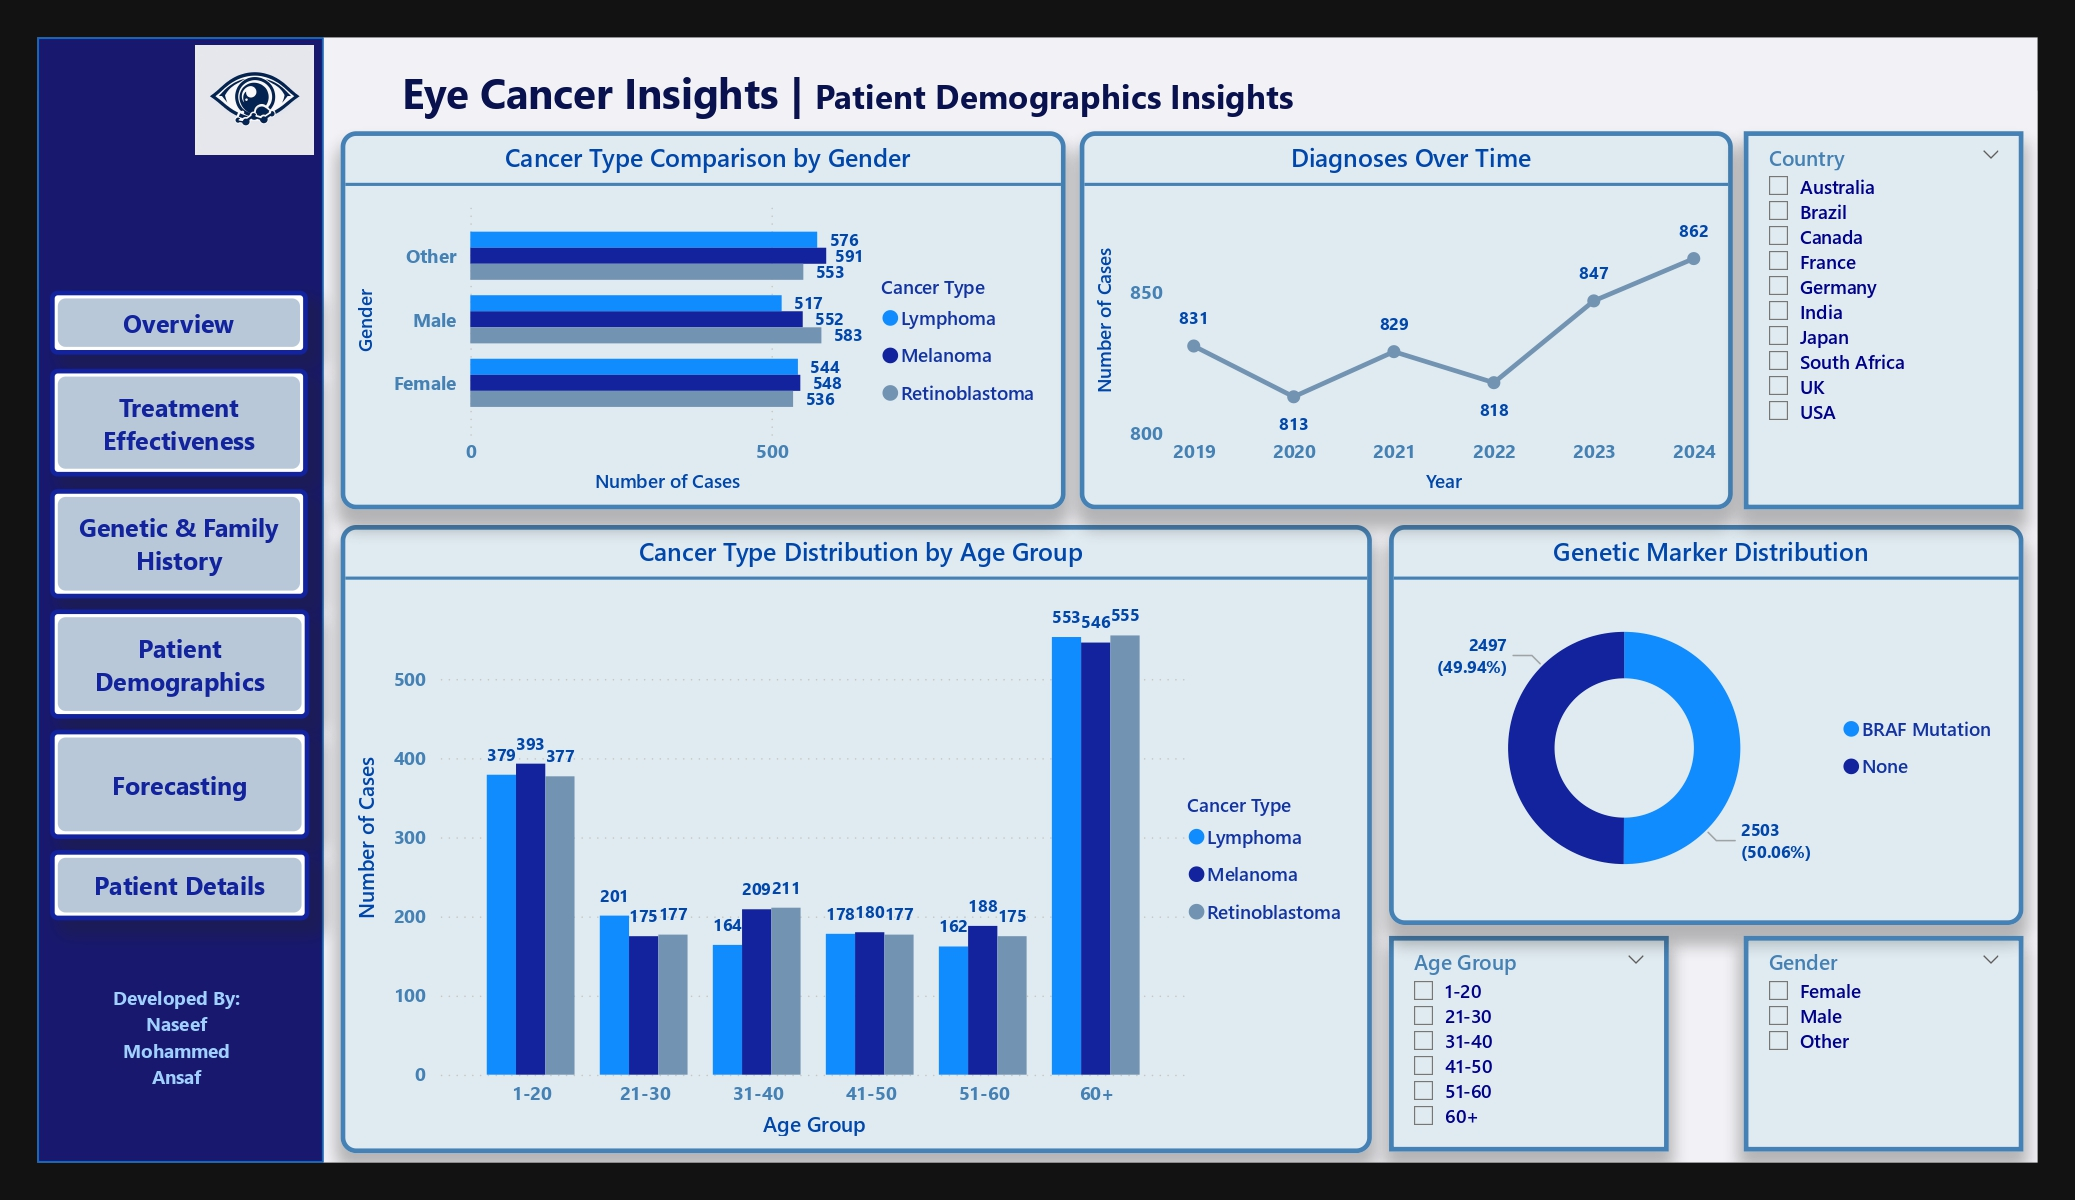

The dashboard page shown, as its layout file describes it:
{"tool":"powerbi","page":{"name":"Patient Demographics","canvas":[1280,720],"ordinal":3},"visuals":[{"type":"shape","box":[0,0,182.8,720.2],"z":0},{"type":"textbox","box":[182.8,12.3,671.2,47.9],"z":1000},{"type":"image","box":[96.5,0,85.9,80],"z":2000},{"type":"slicer","fields":{"Values":["Eye cancer patients dataset_cleaned.Age Group"]},"box":[865,575.5,179.1,137.4],"z":3000},{"type":"donutChart","title":"Genetic Marker Distribution","fields":{"Y":["CountNonNull(Eye cancer patients dataset_cleaned.Genetic_Markers)"],"Category":["Eye cancer patients dataset_cleaned.Genetic_Markers"]},"box":[865,311.7,406.1,256.4],"z":4000},{"type":"slicer","fields":{"Values":["Eye cancer patients dataset_cleaned.Gender"]},"box":[1092,575.5,179.1,137.4],"z":5000},{"type":"clusteredColumnChart","title":"Cancer Type Distribution by Age Group","fields":{"Category":["Eye cancer patients dataset_cleaned.Age Group"],"Y":["CountNonNull(Eye cancer patients dataset_cleaned.Patient_ID)"],"Series":["Eye cancer patients dataset_cleaned.Cancer_Type"]},"box":[193.9,311.7,660.1,402.5],"z":6000},{"type":"clusteredBarChart","title":"Cancer Type Comparison by Gender","fields":{"Category":["Eye cancer patients dataset_cleaned.Gender"],"Y":["CountNonNull(Eye cancer patients dataset_cleaned.Patient_ID)"],"Series":["Eye cancer patients dataset_cleaned.Cancer_Type"]},"box":[193.9,60.1,463.8,241.7],"z":7000},{"type":"lineChart","title":"Diagnoses Over Time","fields":{"Category":["Eye cancer patients dataset_cleaned.Date_of_Diagnosis.Variation.Date Hierarchy.Year"],"Y":["CountNonNull(Eye cancer patients dataset_cleaned.Patient_ID)"]},"box":[667.5,60.1,417.2,241.7],"z":8000},{"type":"slicer","fields":{"Values":["Eye cancer patients dataset_cleaned.Country"]},"box":[1092,60.1,179.1,241.7],"z":9000},{"type":"actionButton","box":[7.6,162.5,165.6,40.5],"z":9001},{"type":"actionButton","box":[7.6,211.5,165.6,69.9],"z":9002},{"type":"actionButton","box":[7.6,288.9,165.6,69.9],"z":9003},{"type":"actionButton","box":[8.4,365.8,165.6,69.9],"z":9004},{"type":"actionButton","box":[8.4,443.1,165.6,69.9],"z":9005},{"type":"actionButton","box":[8.4,520.4,165.6,44.2],"z":9006},{"type":"textbox","box":[38,600,101.8,85.9],"z":9007}]}

Visuals, with their boxes on the page's 1280x720 design canvas (x1, y1, x2, y2). These are canvas units, not pixel positions in the 2075x1200 screenshot, which may show the page scaled, cropped or inside an application window:
shape: (0,0,183,720)
textbox: (183,12,854,60)
image: (96,0,182,80)
slicer - Eye cancer patients dataset_cleaned.Age Group: (865,576,1044,713)
"Genetic Marker Distribution" donutChart: (865,312,1271,568)
slicer - Eye cancer patients dataset_cleaned.Gender: (1092,576,1271,713)
"Cancer Type Distribution by Age Group" clusteredColumnChart: (194,312,854,714)
"Cancer Type Comparison by Gender" clusteredBarChart: (194,60,658,302)
"Diagnoses Over Time" lineChart: (668,60,1085,302)
slicer - Eye cancer patients dataset_cleaned.Country: (1092,60,1271,302)
actionButton: (8,162,173,203)
actionButton: (8,212,173,281)
actionButton: (8,289,173,359)
actionButton: (8,366,174,436)
actionButton: (8,443,174,513)
actionButton: (8,520,174,565)
textbox: (38,600,140,686)
